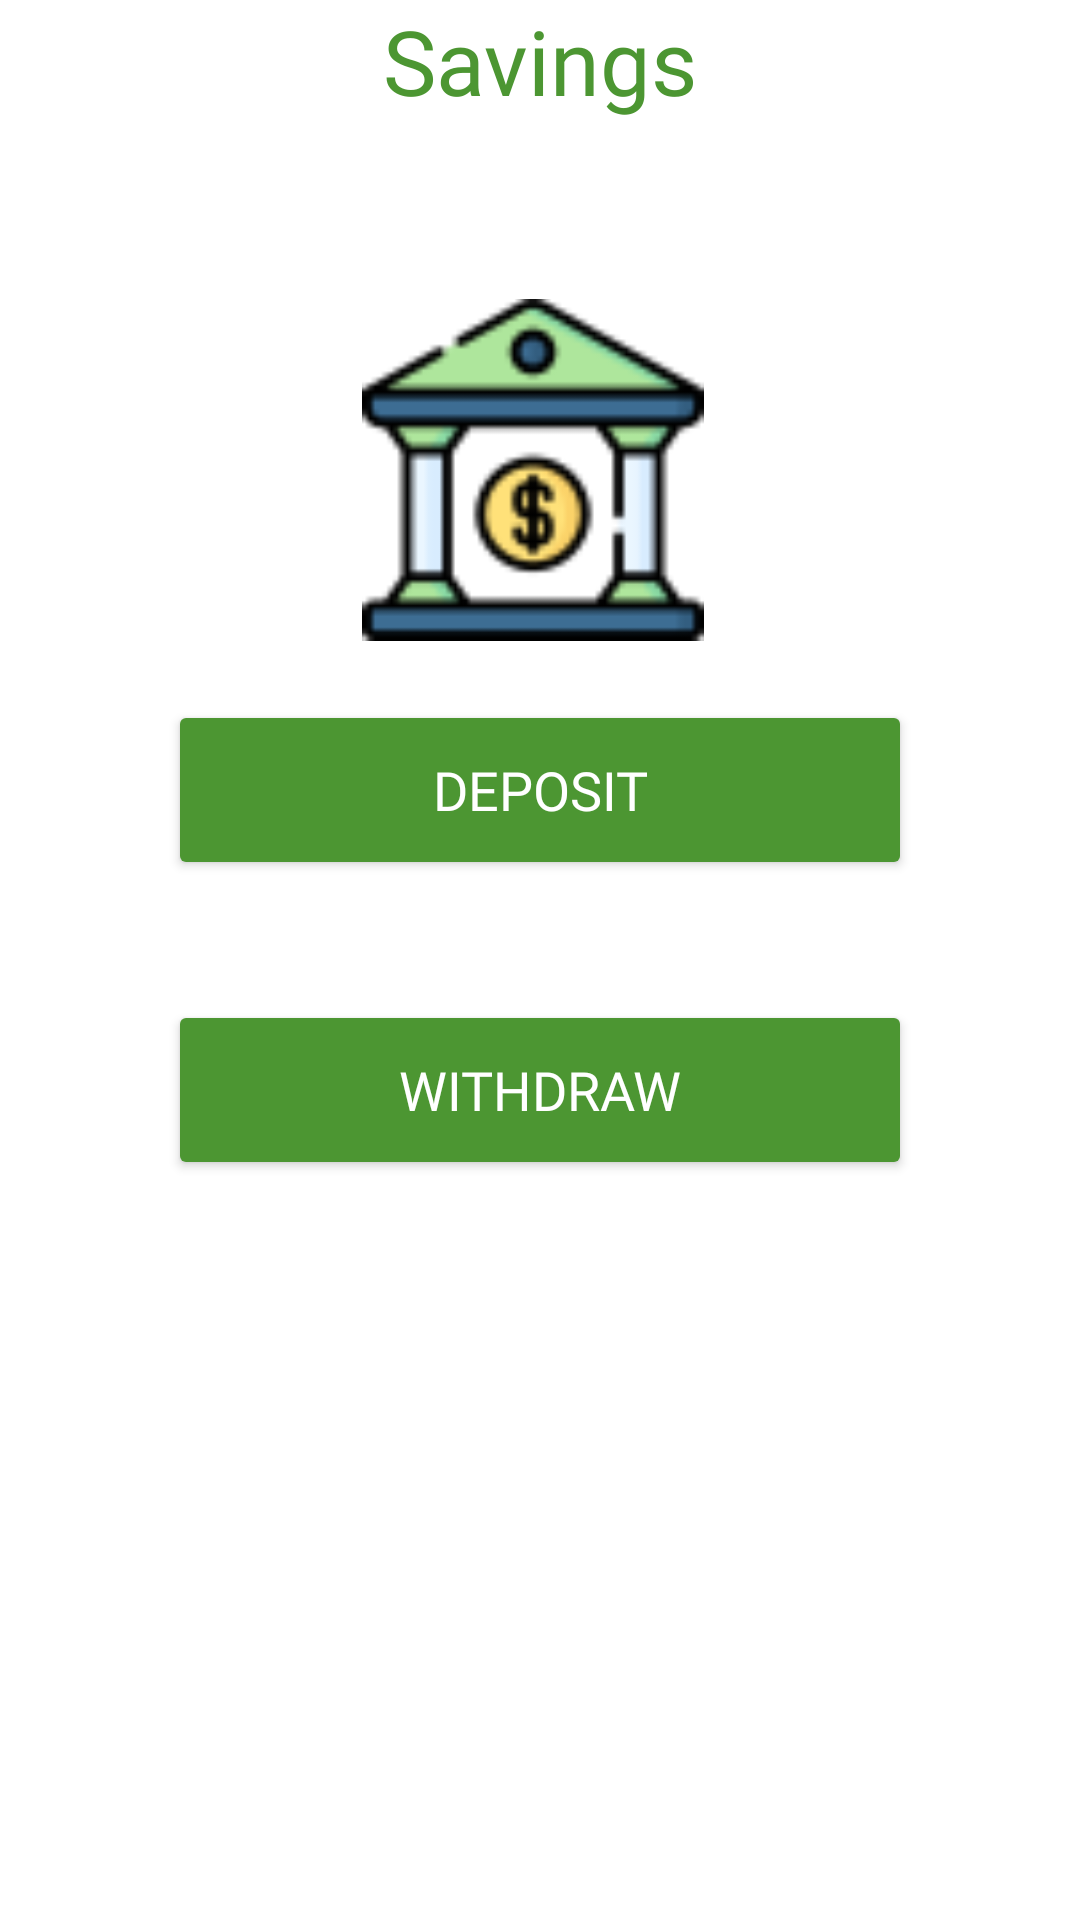

Icons on this 1080px x 1920px Android screen, each with its box as (x1, y1, x2, y2):
bank: (362, 299, 704, 641)
